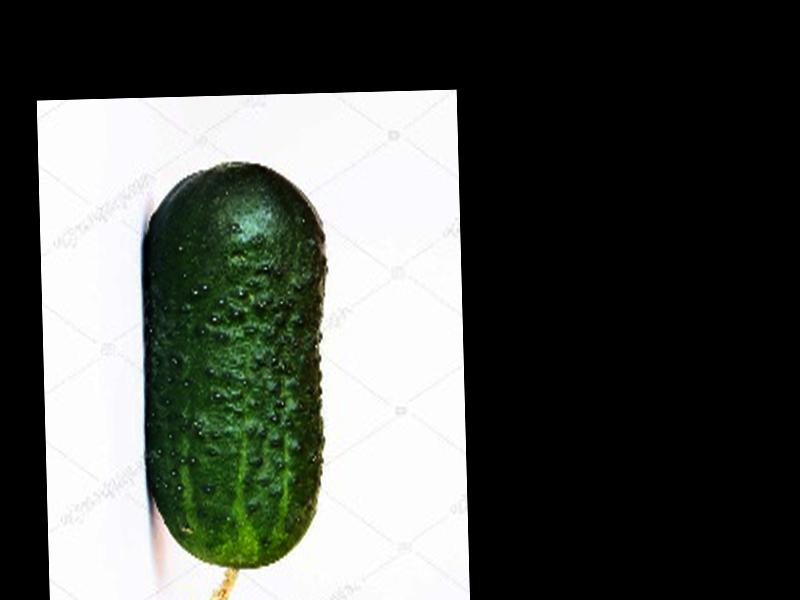Cucumber: (141, 164, 333, 600)
